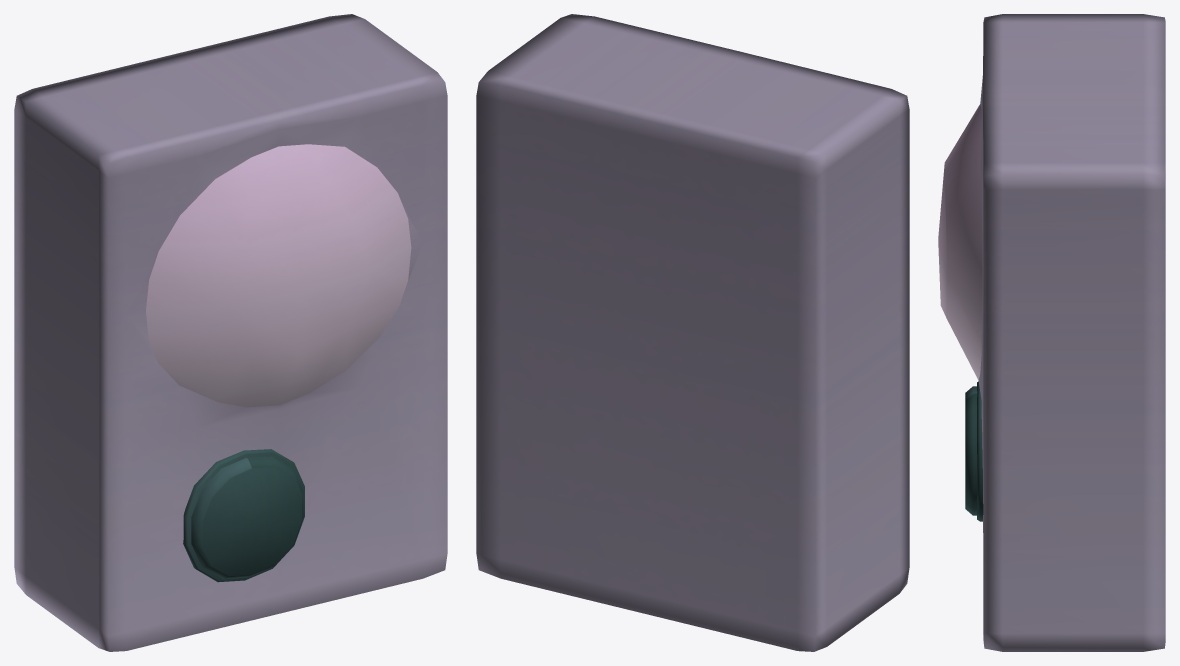
Rendered from SM_Soundmodule.fbx.
3 renders of one model, left to right at view 1: azimuth 30°, elevation 25°; view 2: azimuth 150°, elevation 25°; view 3: azimuth 270°, elevation 25°, orthographic. The views are drawn at different scales.
Parts seen in each view (by area): view 1: bodytoy, button; view 2: bodytoy; view 3: bodytoy, button.
Boxes of the visible parts, x1=… form: bodytoy: x1=14, y1=14, x2=447, y2=651; button: x1=191, y1=456, x2=303, y2=579; bodytoy: x1=476, y1=14, x2=909, y2=651; bodytoy: x1=938, y1=14, x2=1165, y2=651; button: x1=965, y1=386, x2=977, y2=515.
Size of the model in its own units: 127 by 177 by 76.51.
1 material, 1 textured.
